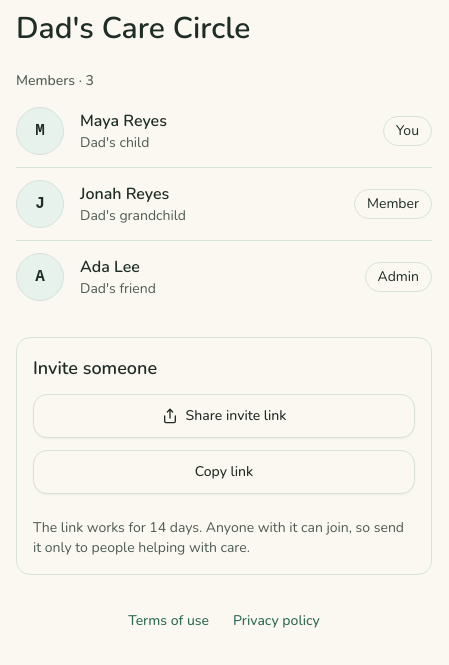
copies the invite link
Expected: the button "Share invite link" is shown, left=33, top=394, right=415, bottom=438
Step 1. Click the button "Copy link" → (224,472), box left=33, top=450, right=415, bottom=494
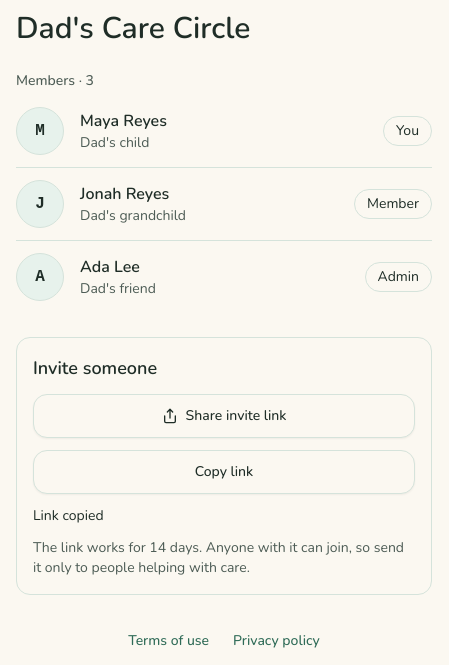
Expected: the text "Link copied" is shown, left=33, top=506, right=104, bottom=525
